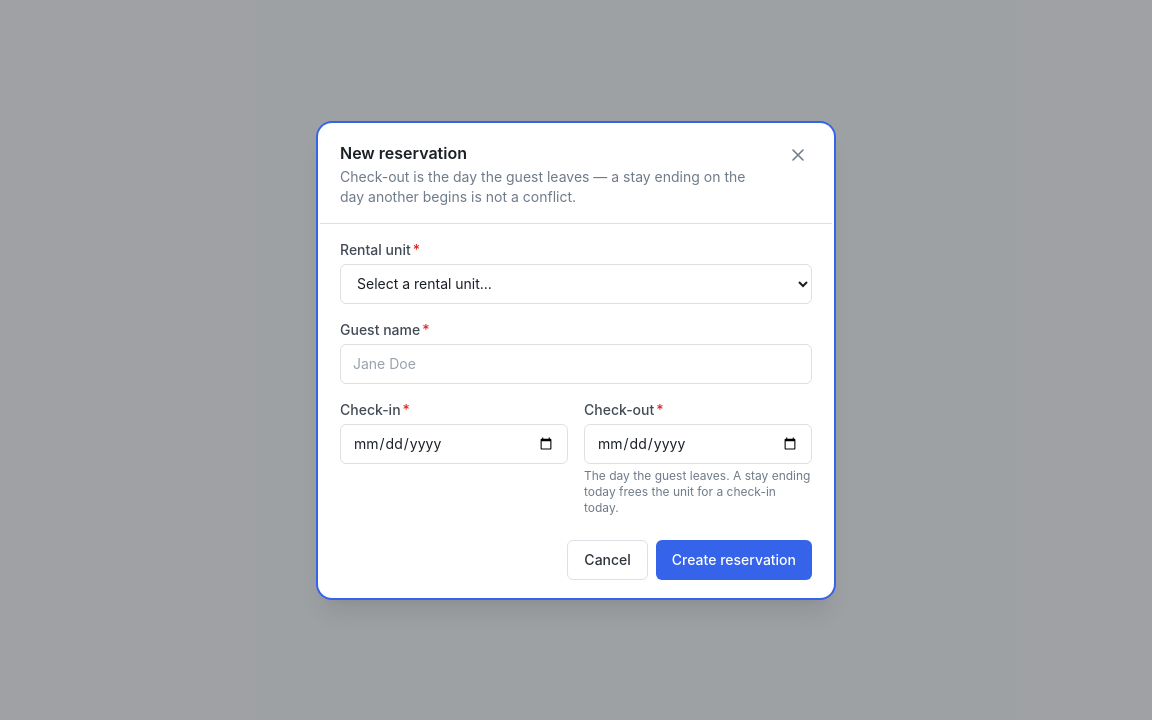
Test: ReservationFormModal — the conflict path › falls back to the generic message when a 409 arrives without usable details
The width and height of the screenshot is (1152, 720).
Select "Seaside flat" in the dropdown labelled "Rental unit*". click: [576, 284]
box: top-left (340, 264), bottom-right (812, 304)
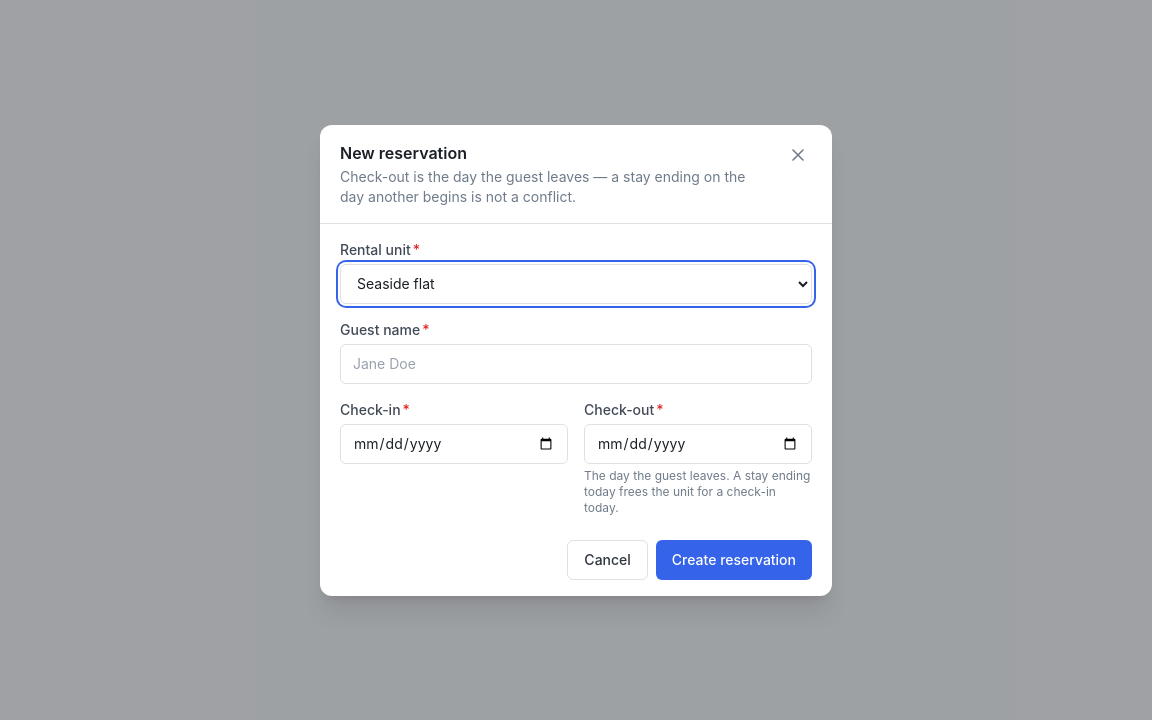
Type "Sam Patel" into the field labelled "Guest name*". click: [576, 364]
box: top-left (340, 344), bottom-right (812, 384)
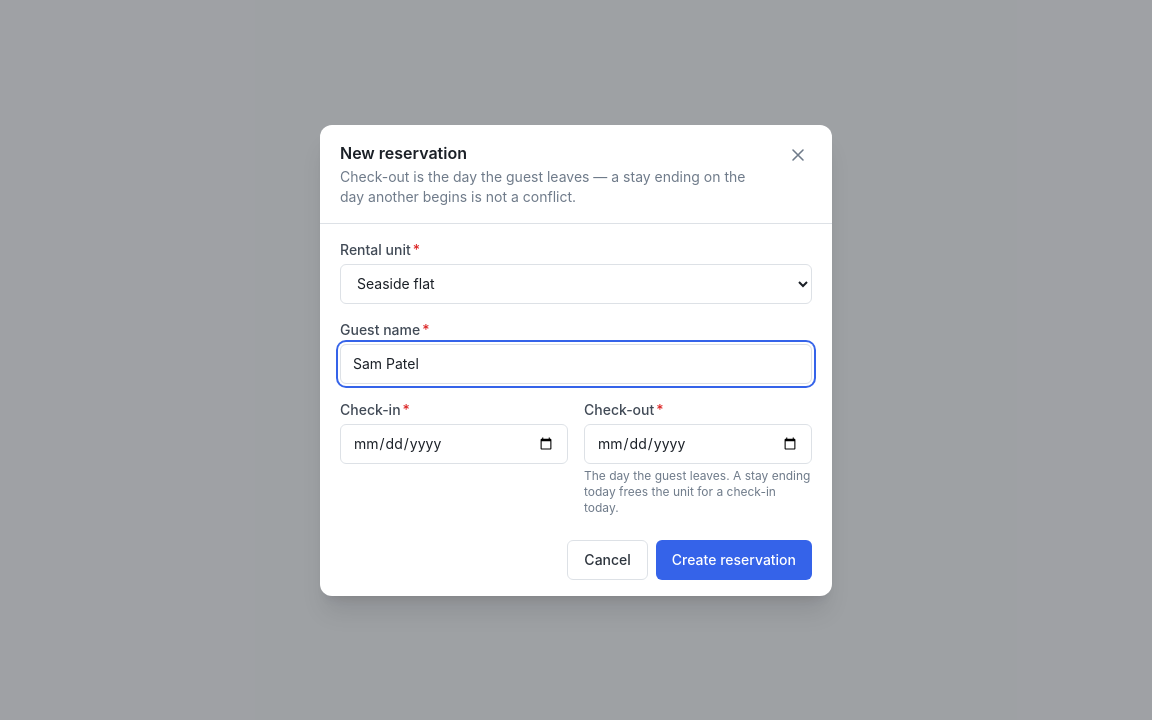
Type "2026-03-13" into the date field labelled "Check-in*". click: [454, 444]
box: top-left (340, 424), bottom-right (568, 464)
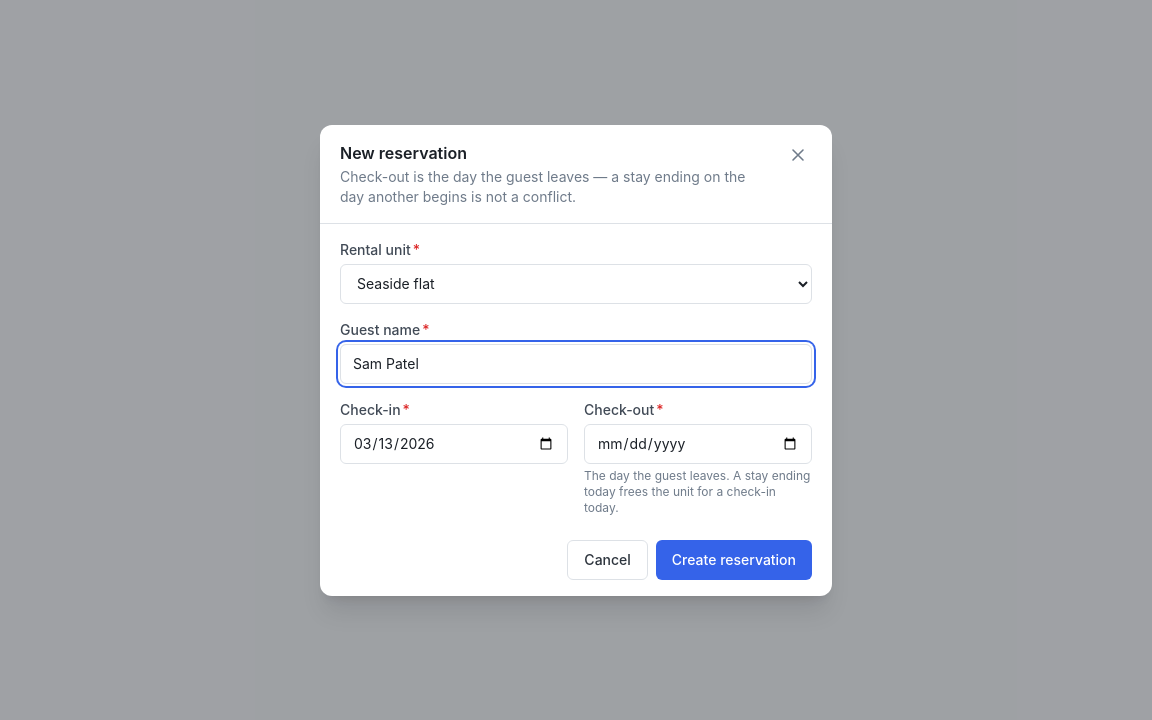
Type "2026-03-16" into the date field labelled "Check-out*". click: [698, 444]
box: top-left (584, 424), bottom-right (812, 464)
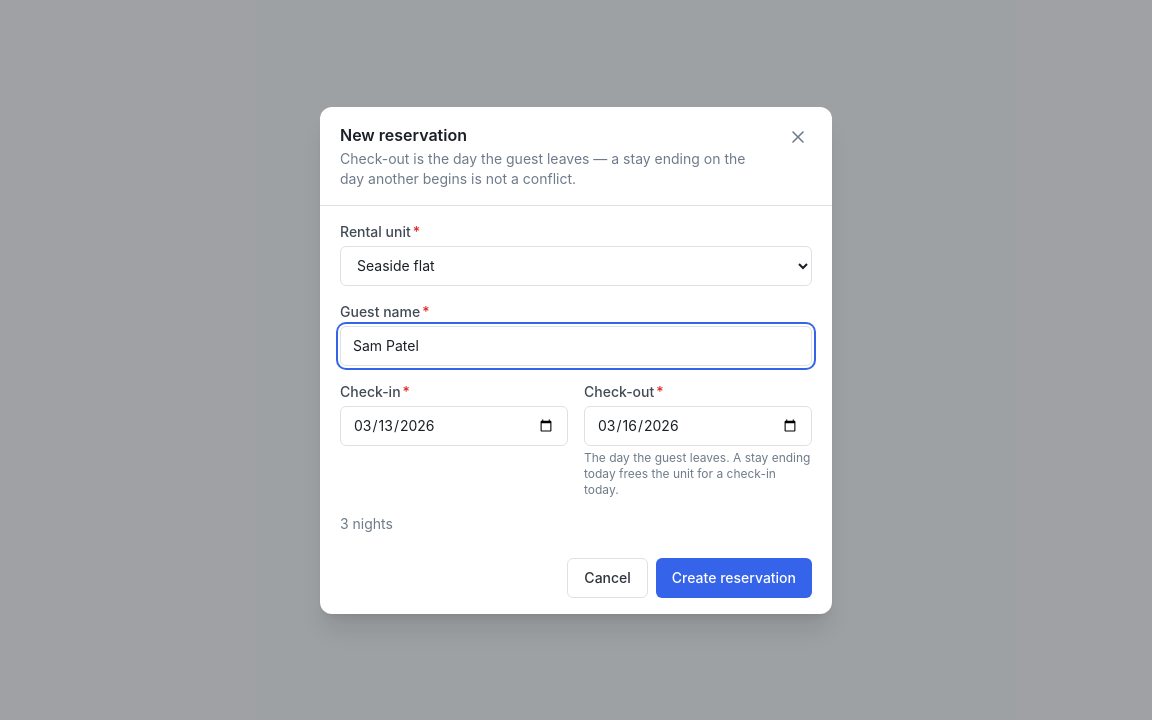
Click the button "Create reservation". click: [734, 578]
box: top-left (656, 558), bottom-right (812, 598)
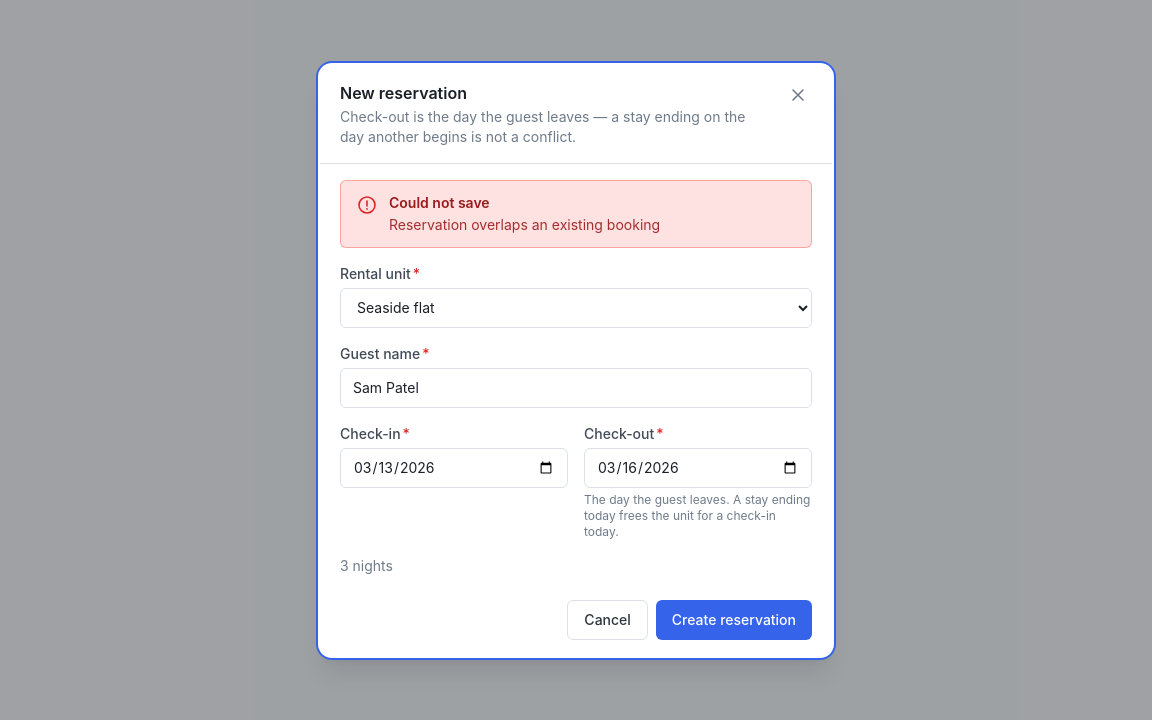
Expected: the text "Reservation overlaps an existing booking" is shown, top-left (389, 216), bottom-right (660, 232)
